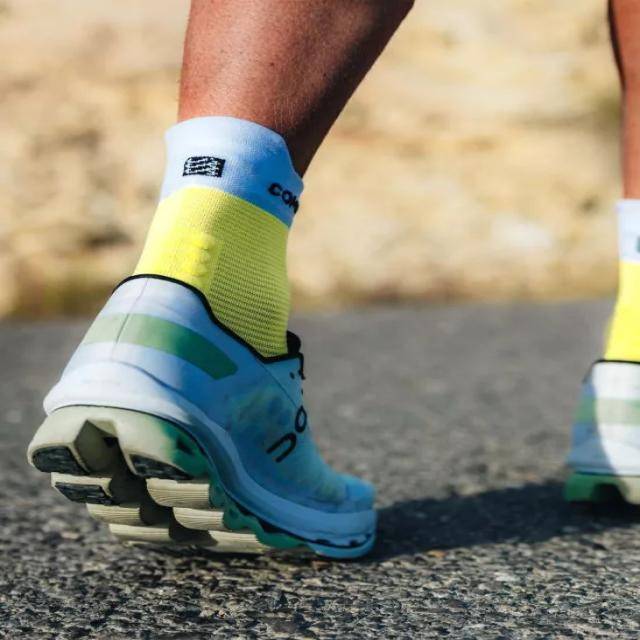OC_logo: (254, 384, 328, 502)
sock logo: (135, 132, 305, 359)
